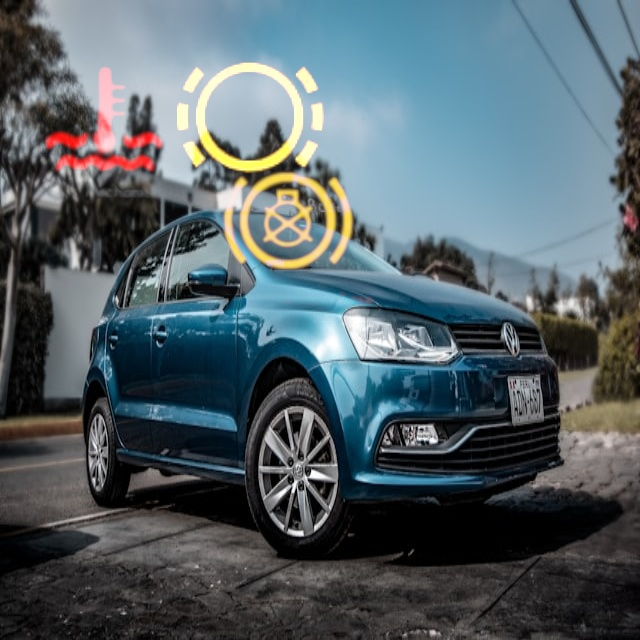symbol: (145, 14, 354, 223), (195, 130, 380, 315), (18, 33, 191, 206)
